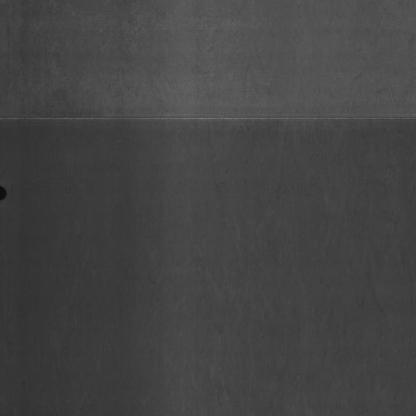punching_hole: (0, 179, 8, 203)
welding_line: (0, 111, 416, 135)
